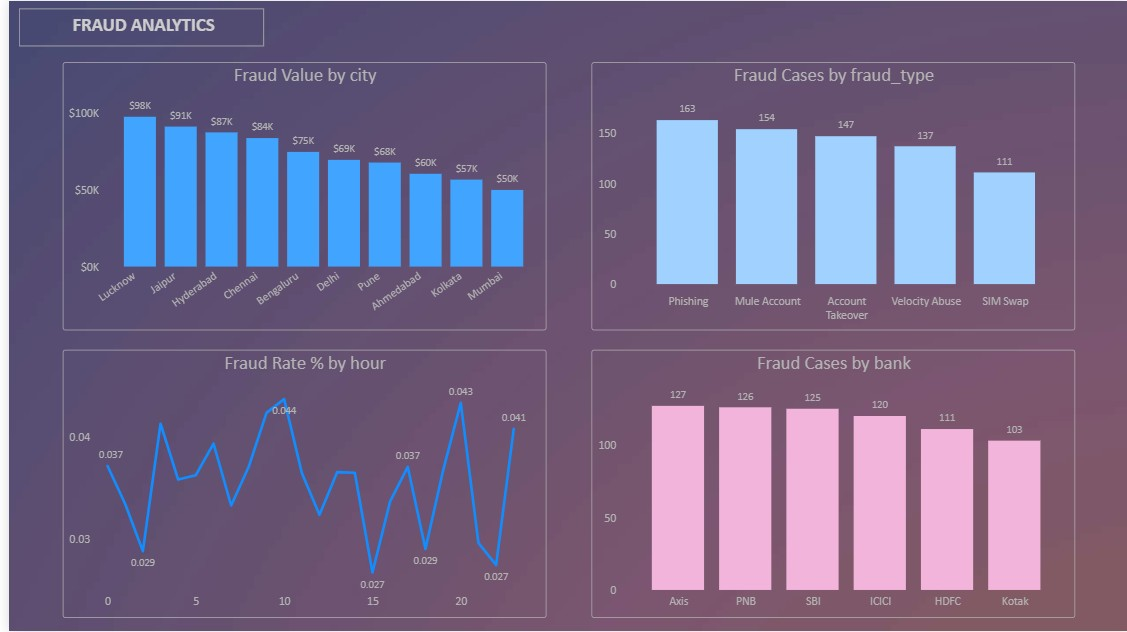

The page's visual inventory and layout, read from the dashboard file:
{"tool":"powerbi","page":{"name":" FRAUD ANALYTICS","canvas":[1280,720],"ordinal":1},"visuals":[{"type":"textbox","box":[11.8,9.2,280.1,43.2],"z":0},{"type":"columnChart","fields":{"Y":["upi_transactions1.Fraud Value"],"Category":["upi_transactions1.city"]},"box":[61.5,70.7,552.4,306.3],"z":1000},{"type":"lineChart","fields":{"Y":["upi_transactions1.Fraud Rate %"],"Category":["upi_transactions1.hour"]},"box":[61.5,398,552.4,306.3],"z":2000},{"type":"columnChart","fields":{"Y":["upi_transactions1.Fraud Cases"],"Category":["upi_transactions1.fraud_type"]},"box":[665,70.7,552.4,306.3],"z":3000},{"type":"columnChart","fields":{"Y":["upi_transactions1.Fraud Cases"],"Category":["upi_transactions1.bank"]},"box":[665,398,552.4,306.3],"z":4000}]}

Visuals, with their boxes in screenshot pixels (x1, y1, x2, y2), scaled from the page's 1280x720 canvas onto the 1127x632 screenshot:
textbox: <box>10,8,257,46</box>
columnChart - upi_transactions1.Fraud Value x upi_transactions1.city: <box>54,62,541,331</box>
lineChart - upi_transactions1.Fraud Rate % x upi_transactions1.hour: <box>54,349,541,618</box>
columnChart - upi_transactions1.Fraud Cases x upi_transactions1.fraud_type: <box>586,62,1072,331</box>
columnChart - upi_transactions1.Fraud Cases x upi_transactions1.bank: <box>586,349,1072,618</box>
